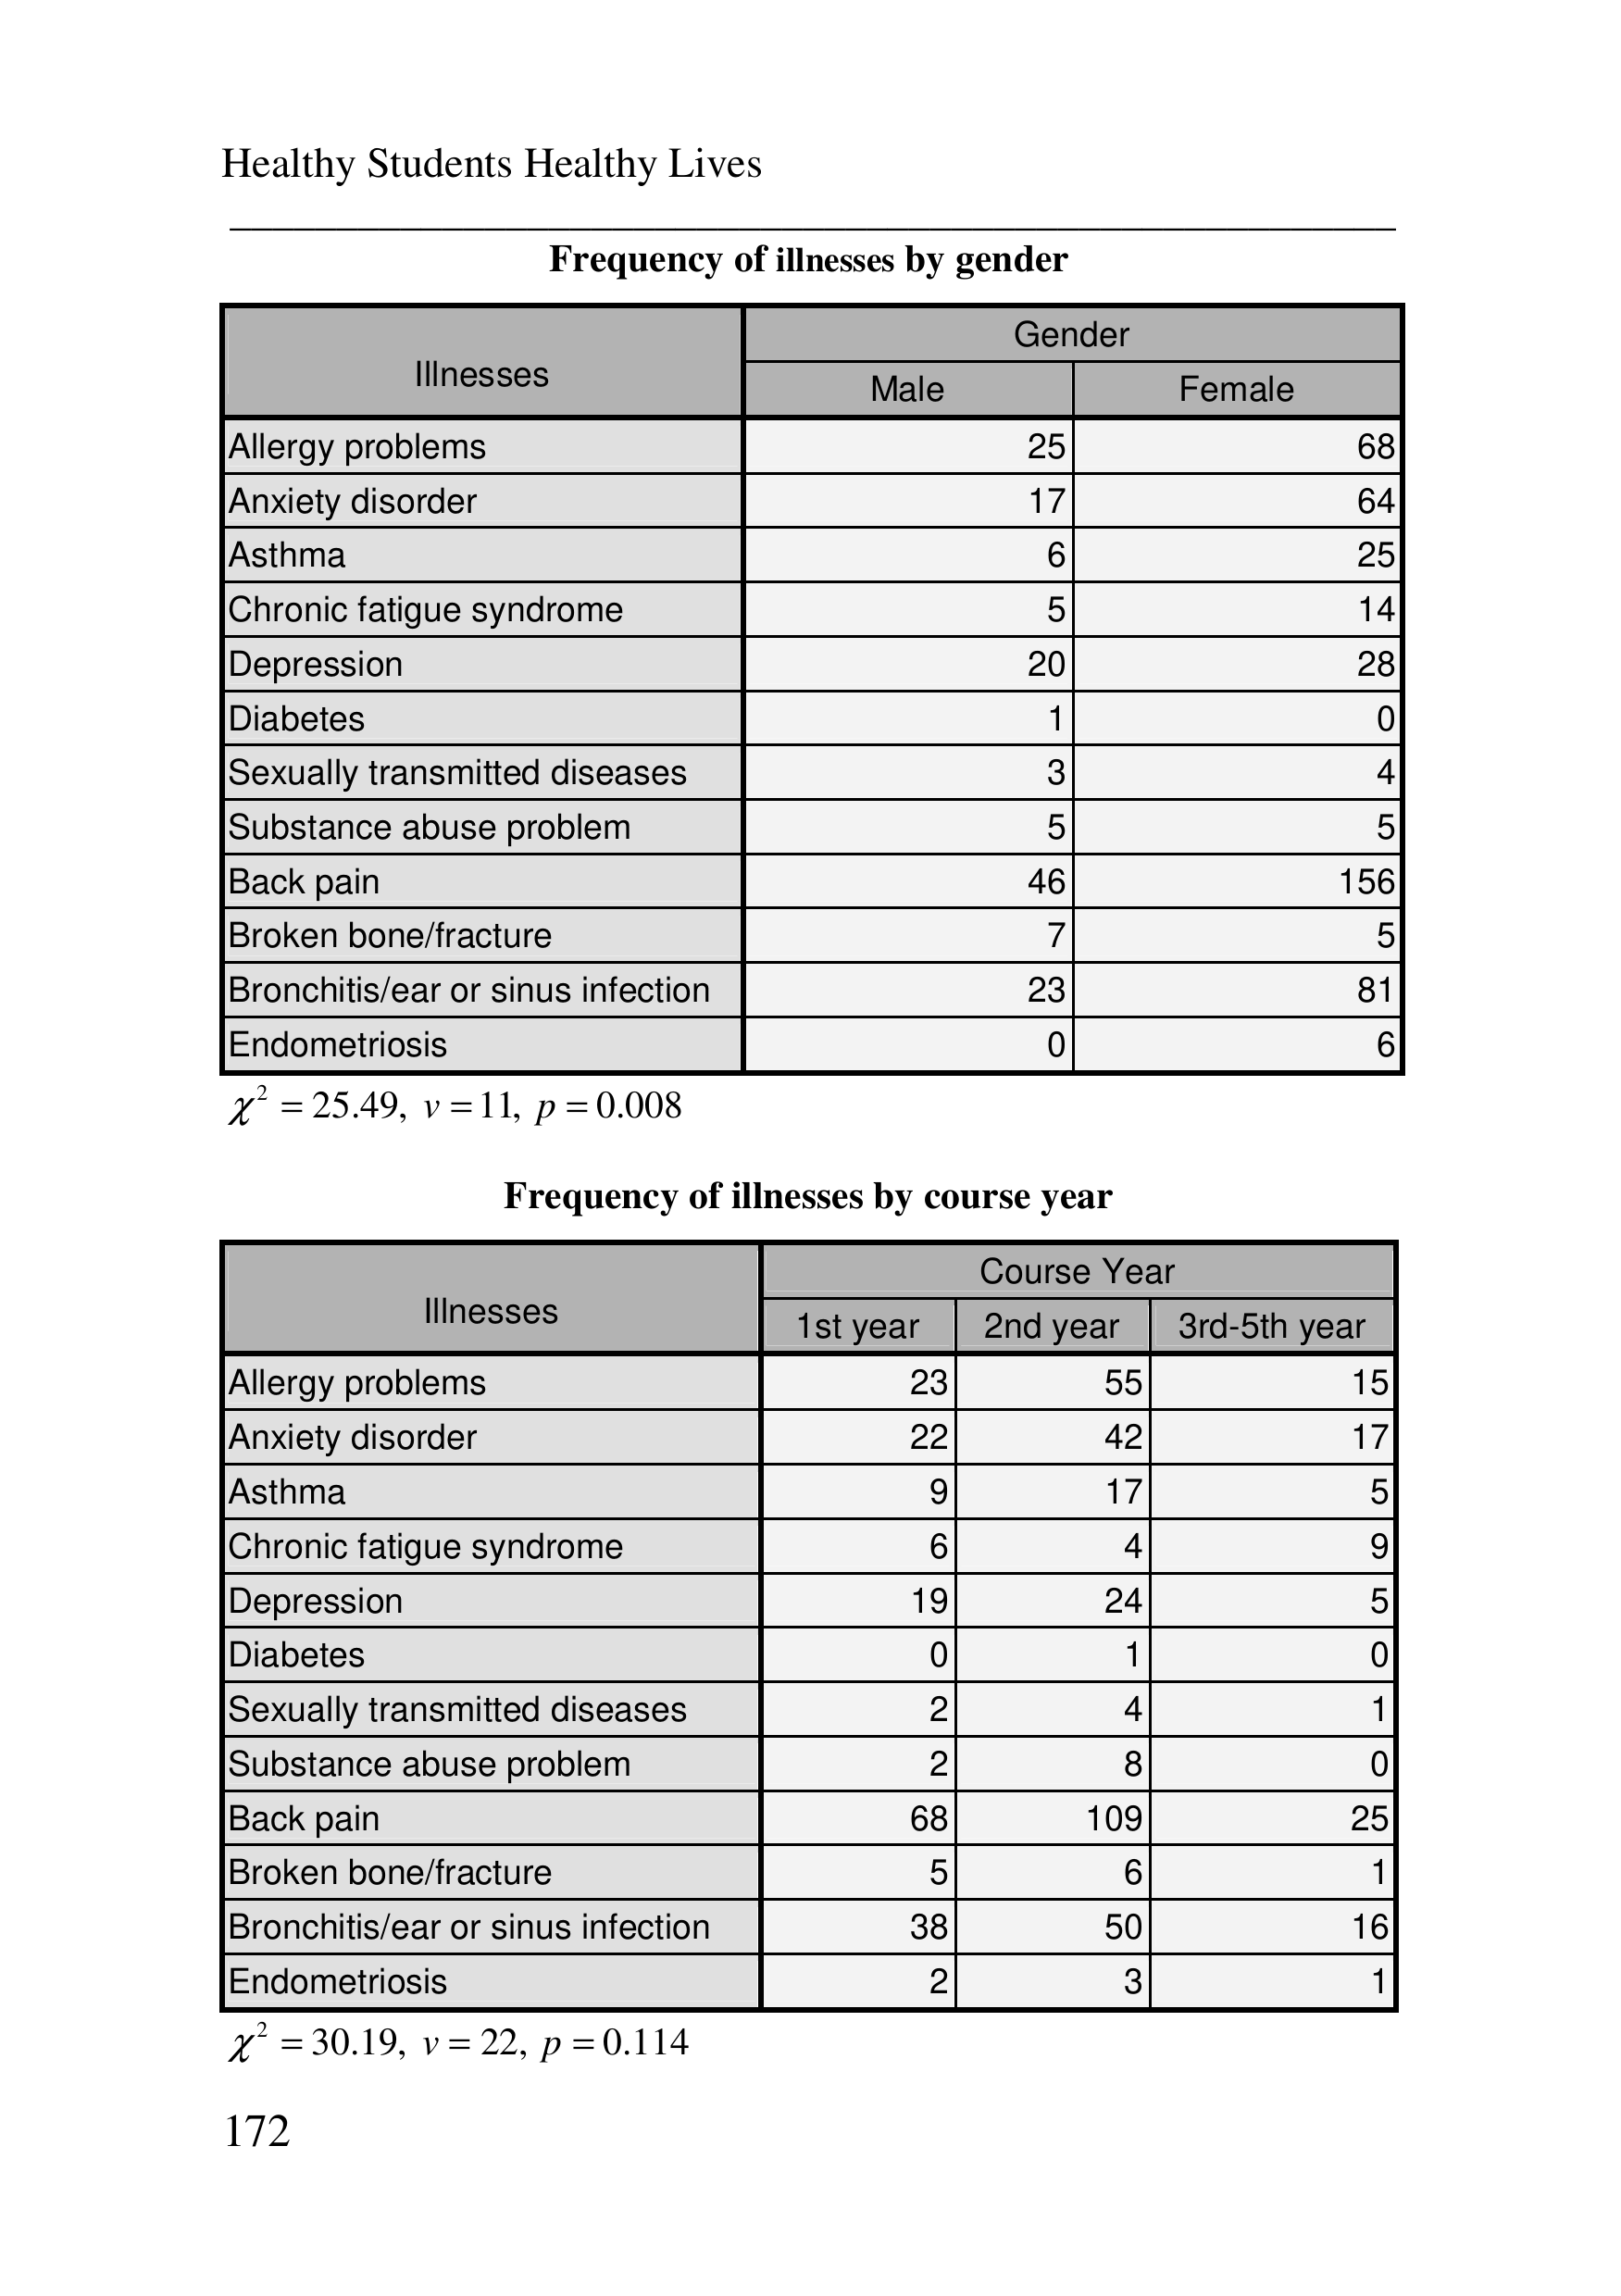table: (216, 300, 1407, 1077), (218, 1238, 1398, 2012)
